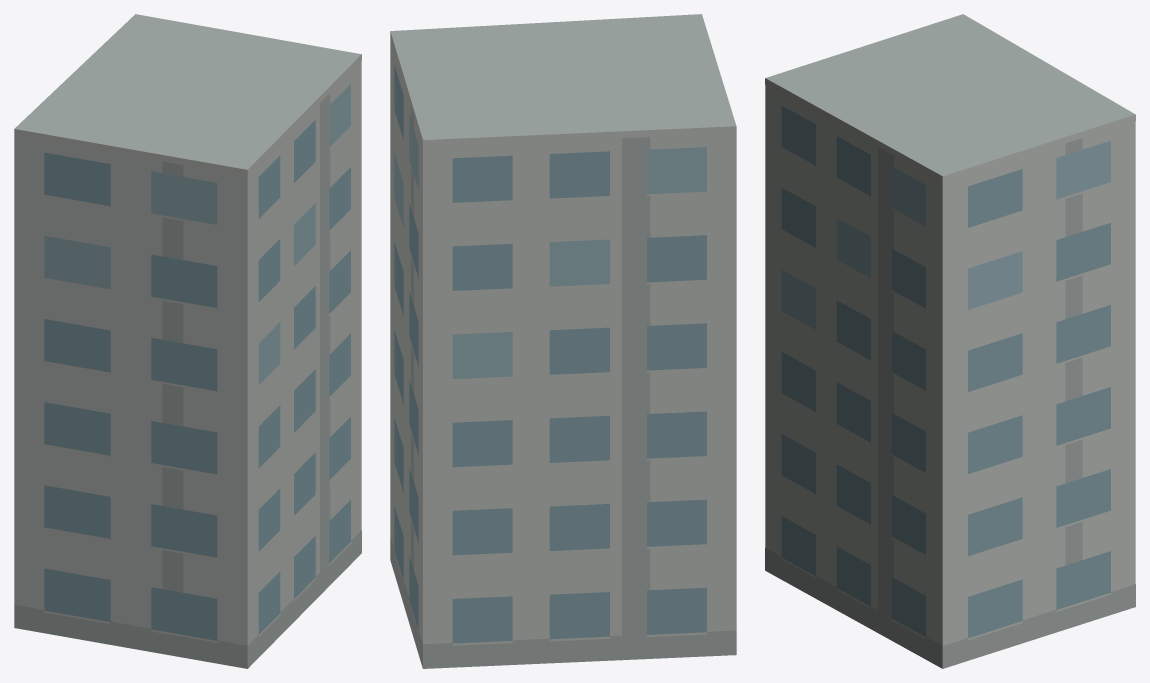
Rendered from survey-upis-32864714.glb.
The picture shows the model from 3 angles, left to right: view 1: azimuth 30°, elevation 25°; view 2: azimuth 150°, elevation 25°; view 3: azimuth 270°, elevation 25°; orthographic projection. The views are drawn at different scales.
Visible parts, largest first — view 1: survey-upis-32864714.tmp; view 2: survey-upis-32864714.tmp; view 3: survey-upis-32864714.tmp.
Part boxes in pixels (x1,y1,x2,y2): survey-upis-32864714.tmp: (14, 14, 361, 668); survey-upis-32864714.tmp: (390, 14, 736, 668); survey-upis-32864714.tmp: (765, 14, 1135, 668).
Size of the model in its own units: 13.01 by 18.4 by 12.55.
